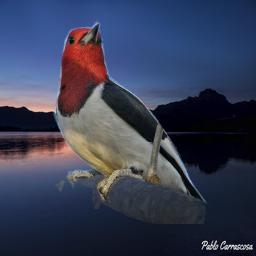Woodpecker: (48, 13, 215, 224)
